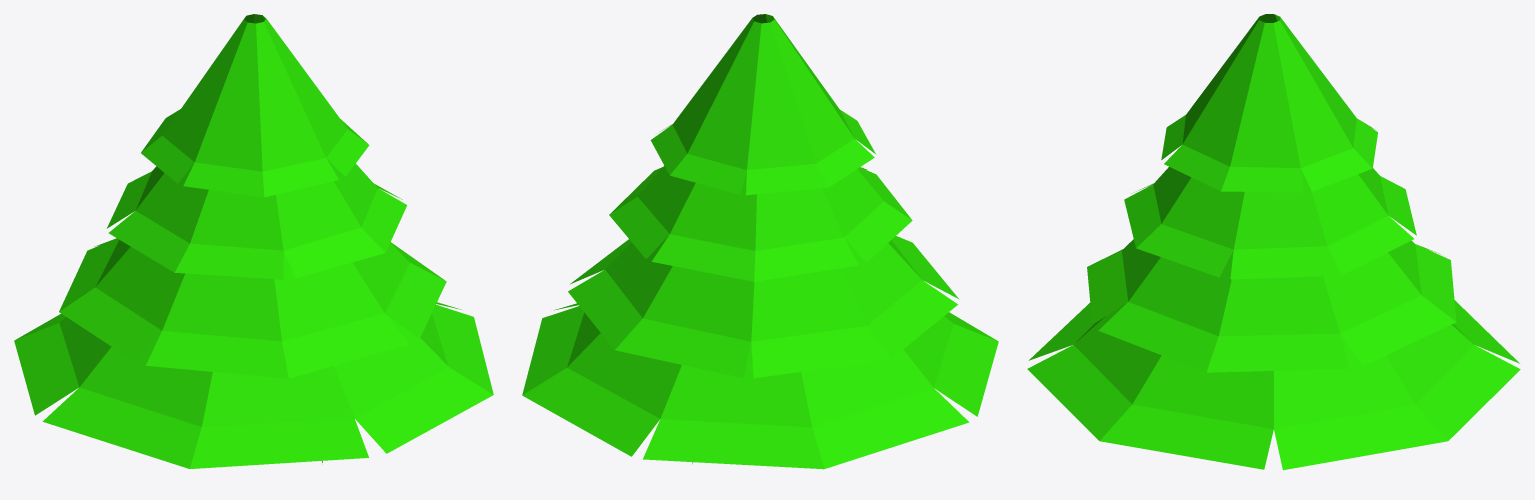
File: tree.fbx
3 renders of one model, left to right at view 1: azimuth 30°, elevation 25°; view 2: azimuth 150°, elevation 25°; view 3: azimuth 270°, elevation 25°, orthographic.
Visible parts, largest first — view 1: Circle; view 2: Circle; view 3: Circle.
Boxes of the visible parts, x1,y1,x2,y2 form: Circle: (14,14,493,468); Circle: (522,14,998,469); Circle: (1027,14,1520,470).
Size of the model in its own units: 218 by 213 by 219.
